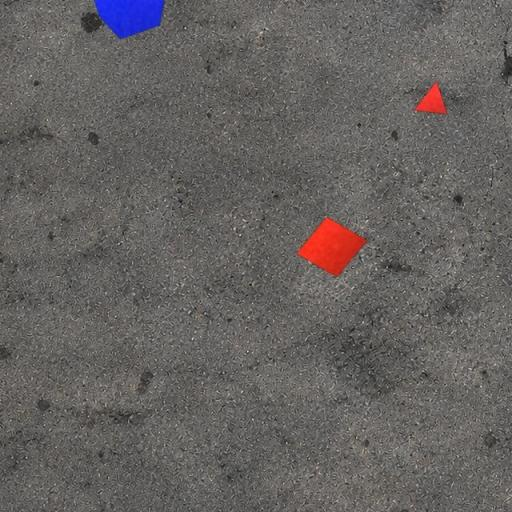RED_SQUARE: (296, 216, 368, 278)
